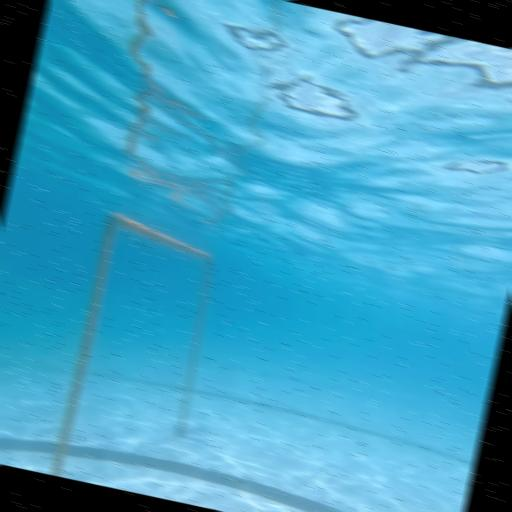gate: (50, 210, 245, 503)
